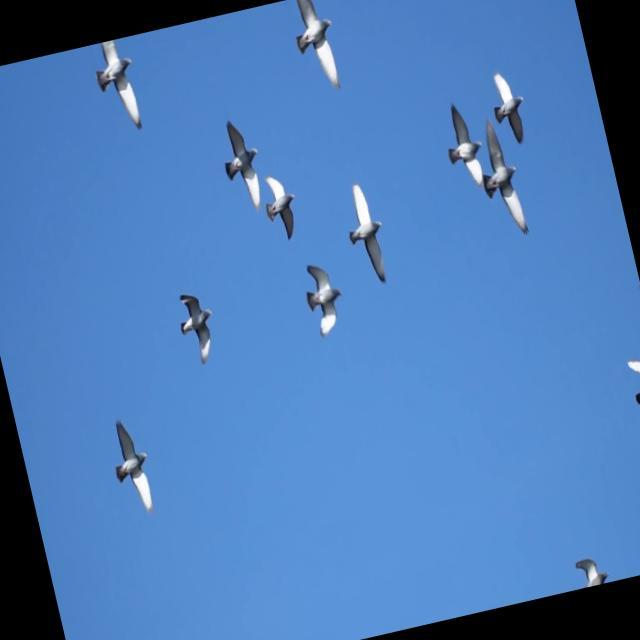bird: (467, 110, 532, 243), (336, 178, 397, 294), (101, 411, 163, 522), (85, 36, 150, 140), (213, 113, 273, 219), (284, 0, 348, 97), (435, 93, 493, 194), (298, 257, 351, 341), (485, 65, 536, 151), (173, 286, 225, 369), (257, 168, 306, 246), (570, 549, 614, 590), (622, 346, 640, 412)
